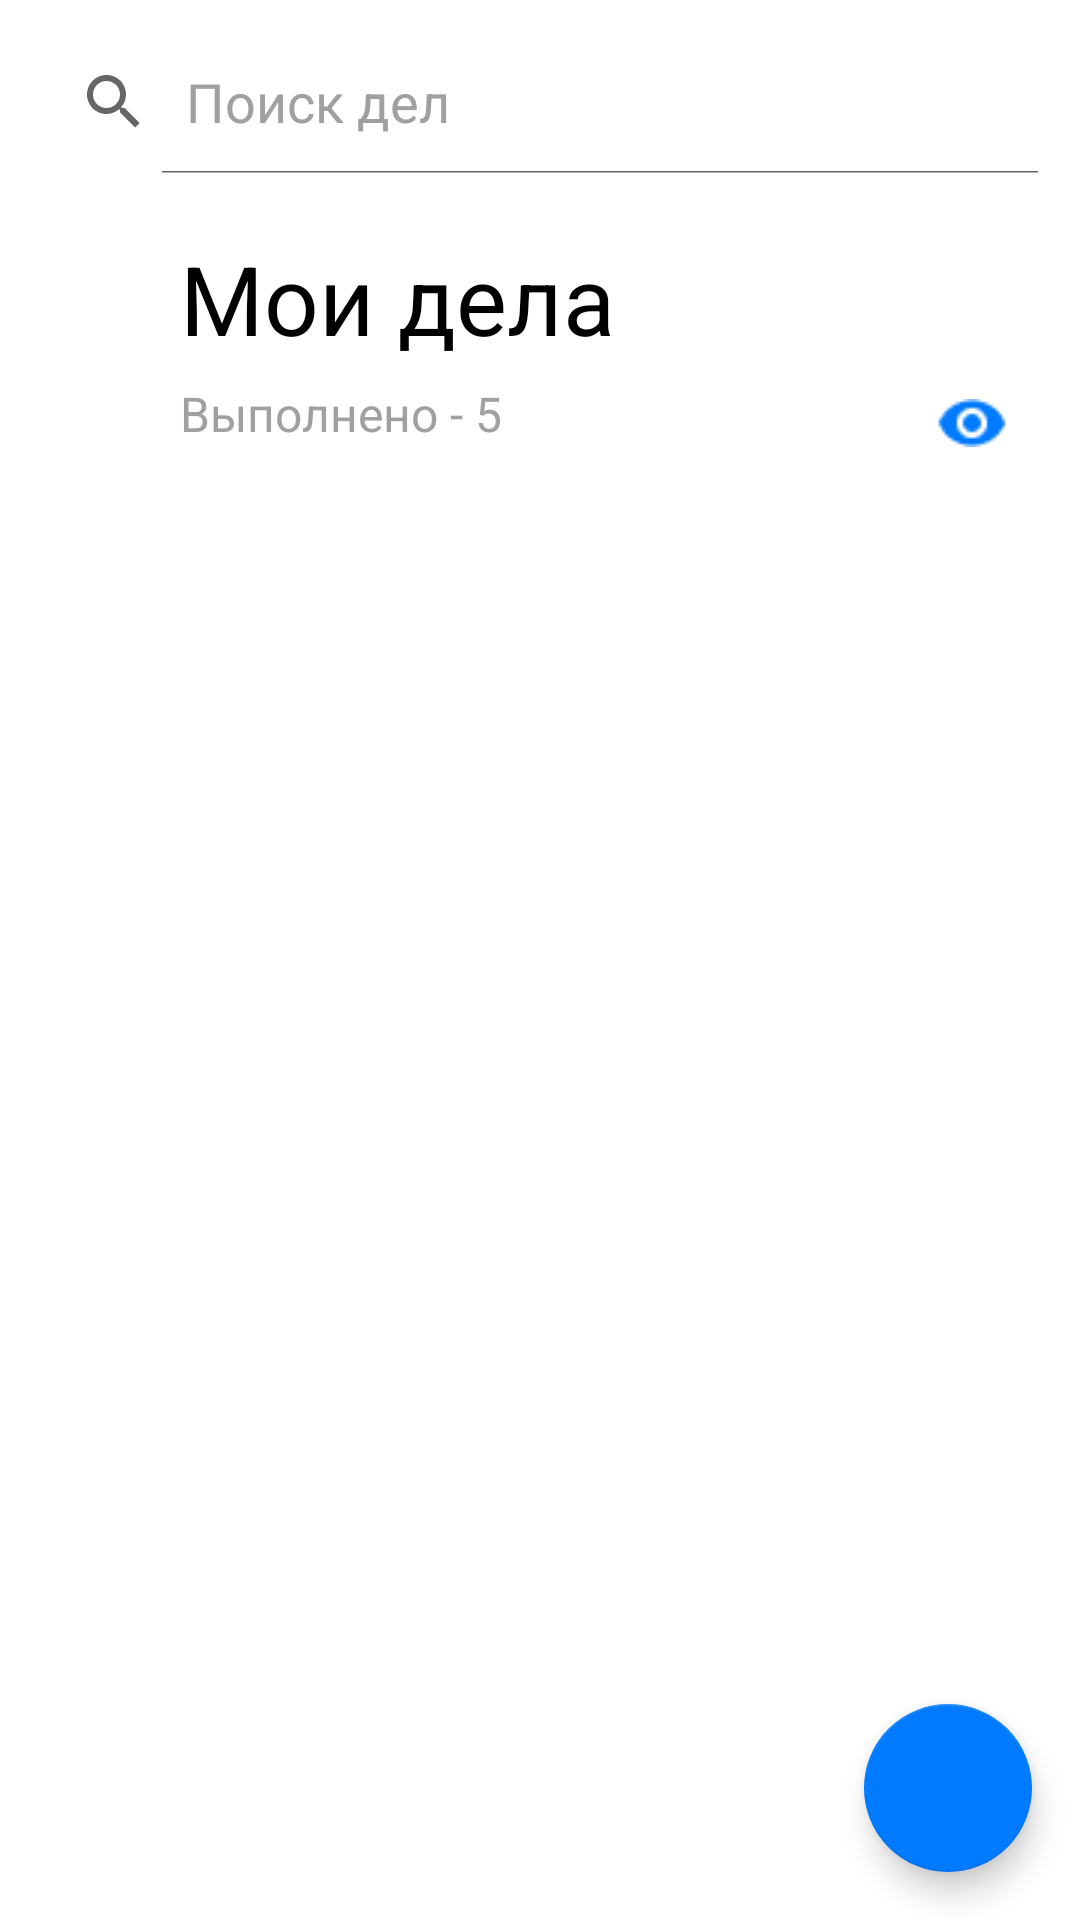

Point at icon controls on the screen. Image size 1080 x 1920, points as [x,y].
visibility: [972,423]
